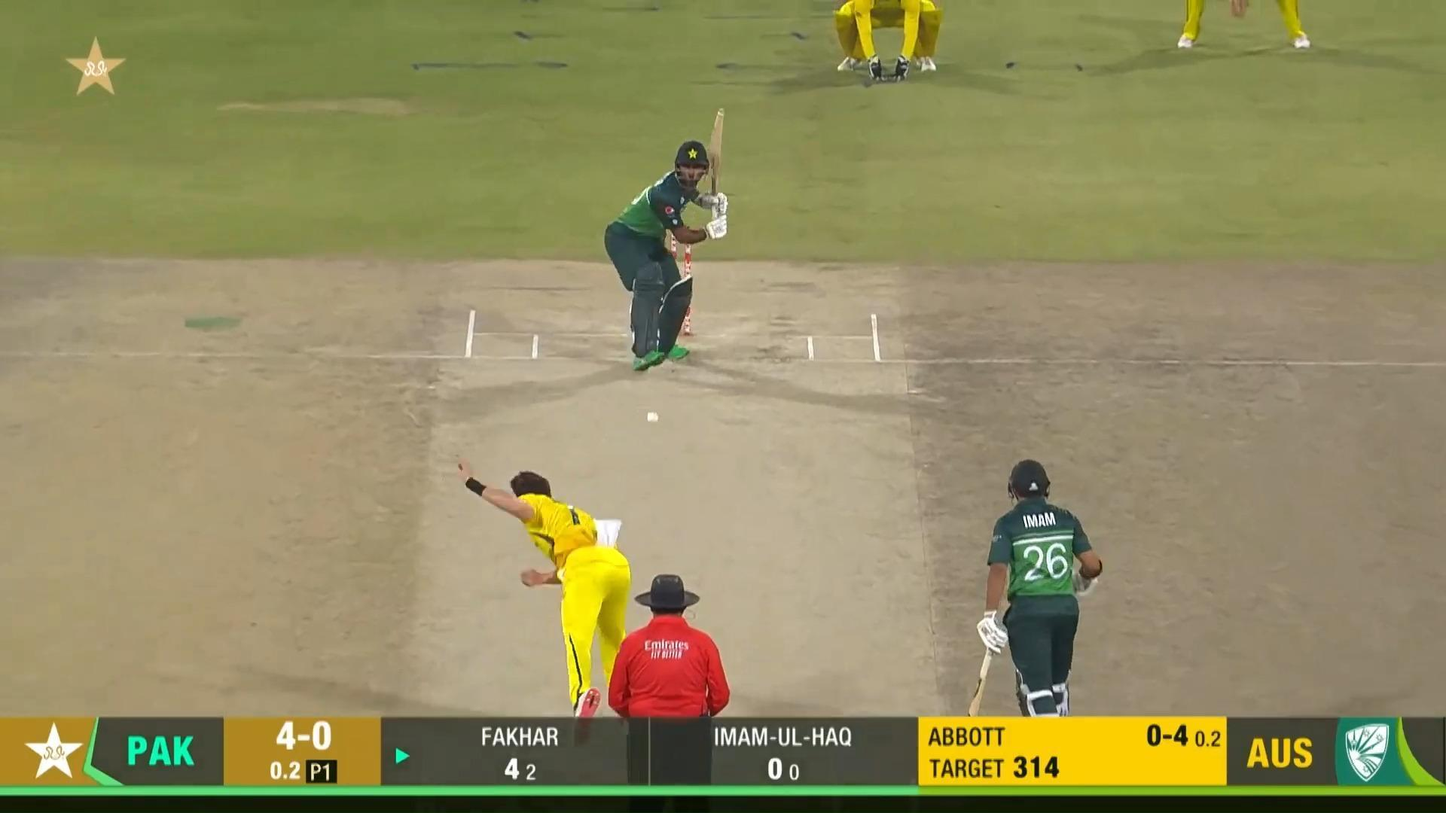BM 1: (602, 104, 728, 373)
BO: (456, 452, 640, 746)
